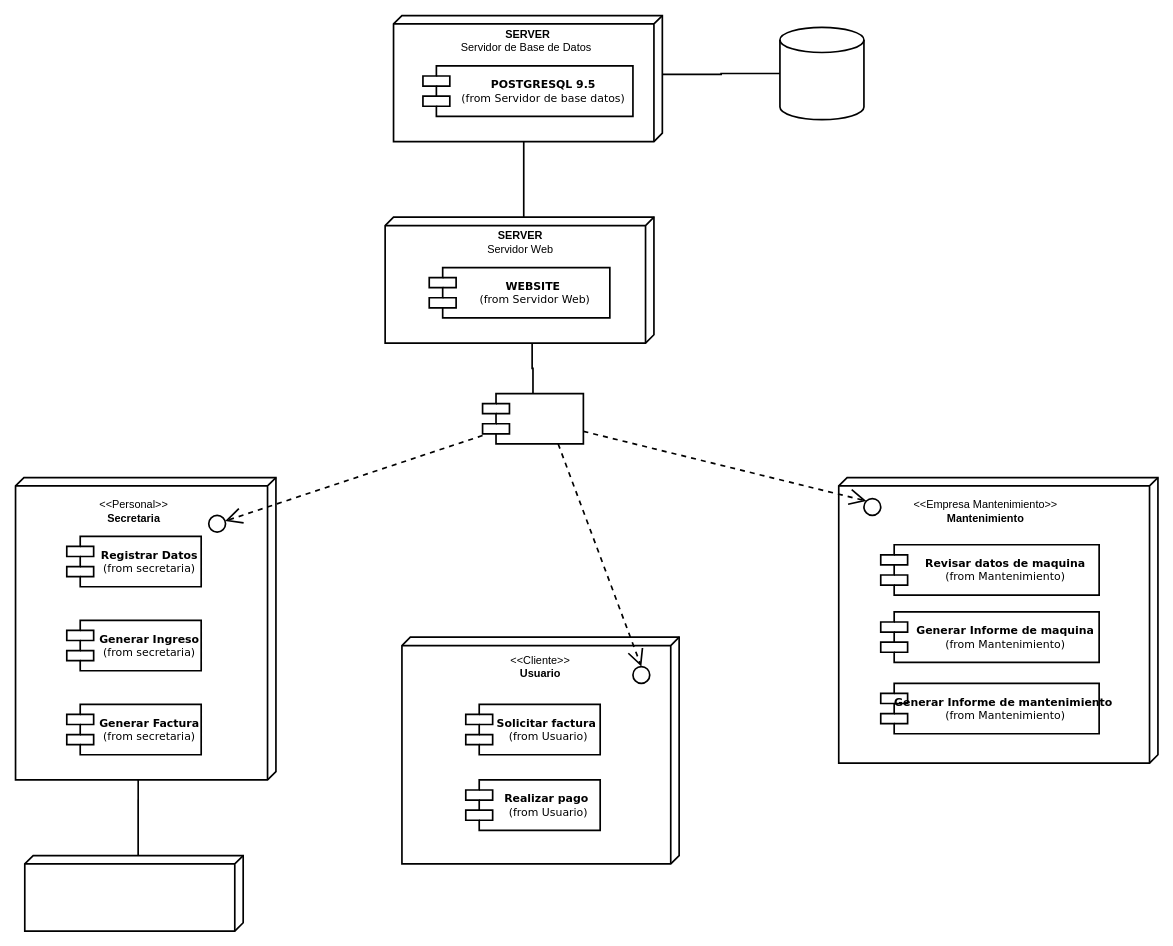
Image size: 1173x946. Some labels were removed from this diagram. The box of each missing label's shape, as (x1, y1, x2, y2) in pixels:
<<Epson L310>> Impresora: (24, 854, 244, 932)
BD RELACIONAL: (779, 26, 864, 120)
Login Ingreso: (481, 392, 584, 444)
